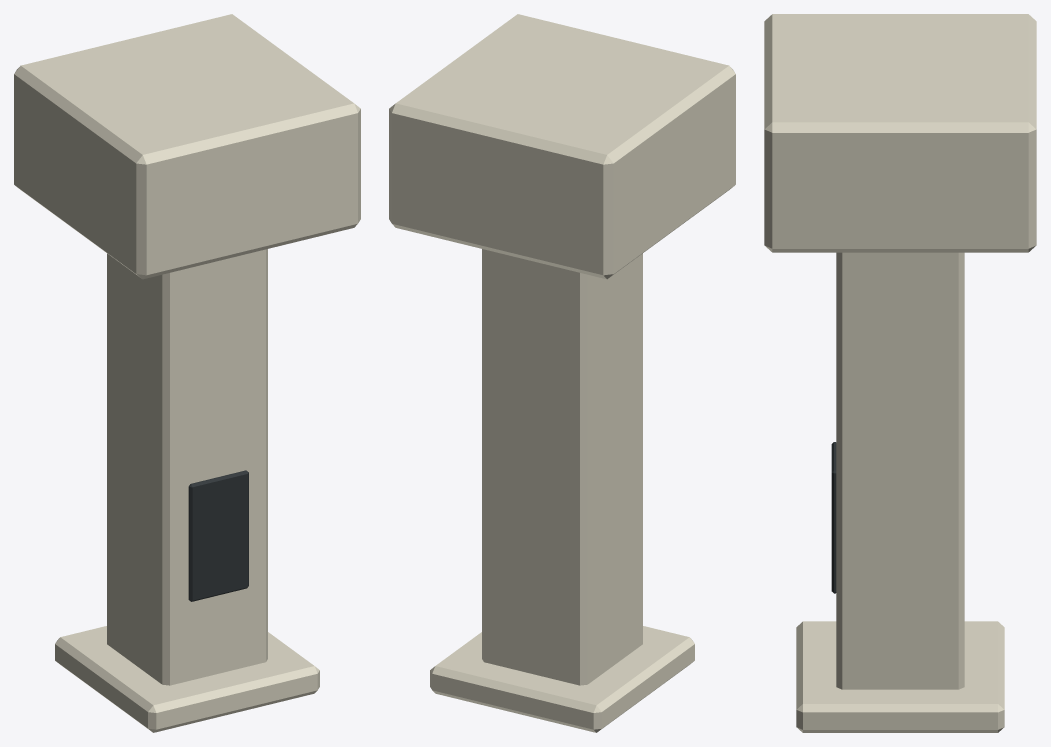
Rendered from SM_NoiseEmitter_Body.fbx.
3 renders of one model, left to right at view 1: azimuth 30°, elevation 25°; view 2: azimuth 150°, elevation 25°; view 3: azimuth 270°, elevation 25°, orthographic. The views are drawn at different scales.
Visible parts, largest first — view 1: SM_NoiseEmitter_Body; view 2: SM_NoiseEmitter_Body; view 3: SM_NoiseEmitter_Body.
Part boxes in pixels (left/top/right/bottom): SM_NoiseEmitter_Body: left=14, top=14, right=360, bottom=732; SM_NoiseEmitter_Body: left=389, top=14, right=735, bottom=732; SM_NoiseEmitter_Body: left=764, top=14, right=1036, bottom=732.
Size of the model in its own units: 68 by 68 by 172.
